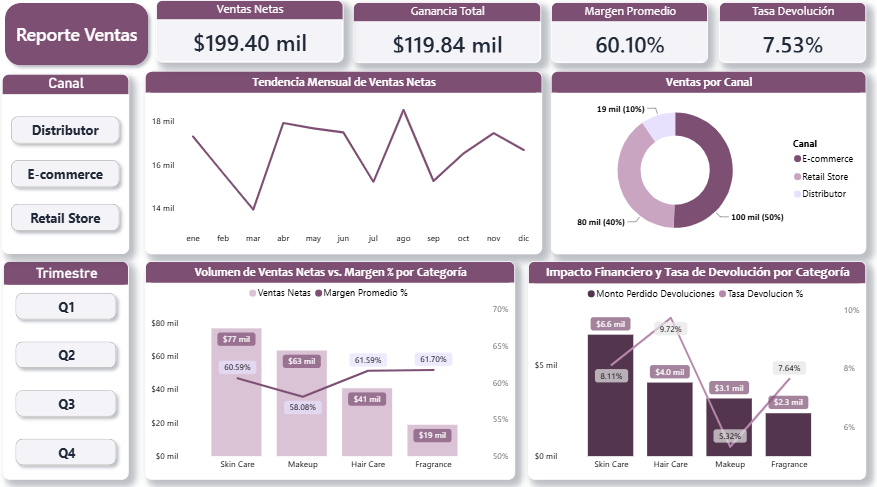

The dashboard page shown, as its layout file describes it:
{"tool":"powerbi","page":{"name":"Página 1","canvas":[1280,720],"ordinal":0},"visuals":[{"type":"cardVisual","title":"Ganancia Total","fields":{"Data":["ventas_cosmeticos_limpio.Ganancia Total"]},"box":[511.7,9.6,271,87.7],"z":0},{"type":"cardVisual","title":"Margen Promedio","fields":{"Data":["ventas_cosmeticos_limpio.Margen Promedio %"]},"box":[797,9.6,226.4,87.7],"z":1000},{"type":"cardVisual","title":"Tasa Devolución","fields":{"Data":["ventas_cosmeticos_limpio.Tasa Devolucion %"]},"box":[1037.7,9.6,212,87.7],"z":2000},{"type":"lineChart","title":"Tendencia Mensual de Ventas Netas","fields":{"Category":["Calendario.Nombre_Mes"],"Y":["Sum(ventas_cosmeticos_limpio.Venta_Neta)"]},"box":[211.7,109.4,571.7,263.5],"z":3000},{"type":"donutChart","title":"Ventas por Canal","fields":{"Category":["ventas_cosmeticos_limpio.Canal"],"Y":["Sum(ventas_cosmeticos_limpio.Venta_Neta)"]},"box":[796.3,109.4,453.6,263.5],"z":4000},{"type":"lineStackedColumnComboChart","title":"Volumen de Ventas Netas vs. Margen % por Categoría","fields":{"Category":["ventas_cosmeticos_limpio.Categoria"],"Y":["ventas_cosmeticos_limpio.Ventas Netas"],"Y2":["ventas_cosmeticos_limpio.Margen Promedio %"]},"box":[211.7,383,532.8,315.4],"z":5000},{"type":"advancedSlicerVisual","fields":{"Values":["Calendario.Trimestre"]},"box":[7.6,382.5,181.3,315.4],"z":6000},{"type":"advancedSlicerVisual","fields":{"Values":["ventas_cosmeticos_limpio.Canal"]},"box":[6.1,114.3,182.9,259],"z":7000},{"type":"cardVisual","title":"Ventas Netas","fields":{"Data":["ventas_cosmeticos_limpio.Ventas Netas"]},"box":[227,7.6,269.7,89.9],"z":8000},{"type":"actionButton","box":[0,1.6,226.4,110],"z":10000},{"type":"lineClusteredColumnComboChart","title":"Impacto Financiero y Tasa de Devolución por Categoría","fields":{"Category":["ventas_cosmeticos_limpio.Categoria"],"Y":["ventas_cosmeticos_limpio.Monto Perdido Devoluciones"],"Y2":["ventas_cosmeticos_limpio.Tasa Devolucion %"]},"box":[763.2,383,486.7,315.4],"z":10001}]}

Visuals, with their boxes in screenshot pixels (x1, y1, x2, y2), scaled from the page's 1280x720 canvas onto the 877x487 screenshot:
"Ganancia Total" cardVisual: bbox=(351, 6, 536, 66)
"Margen Promedio" cardVisual: bbox=(546, 6, 701, 66)
"Tasa Devolución" cardVisual: bbox=(711, 6, 856, 66)
"Tendencia Mensual de Ventas Netas" lineChart: bbox=(145, 74, 537, 252)
"Ventas por Canal" donutChart: bbox=(546, 74, 856, 252)
"Volumen de Ventas Netas vs. Margen % por Categoría" lineStackedColumnComboChart: bbox=(145, 259, 510, 472)
advancedSlicerVisual - Calendario.Trimestre: bbox=(5, 259, 129, 472)
advancedSlicerVisual - ventas_cosmeticos_limpio.Canal: bbox=(4, 77, 129, 252)
"Ventas Netas" cardVisual: bbox=(156, 5, 340, 66)
actionButton: bbox=(0, 1, 155, 75)
"Impacto Financiero y Tasa de Devolución por Categoría" lineClusteredColumnComboChart: bbox=(523, 259, 856, 472)
